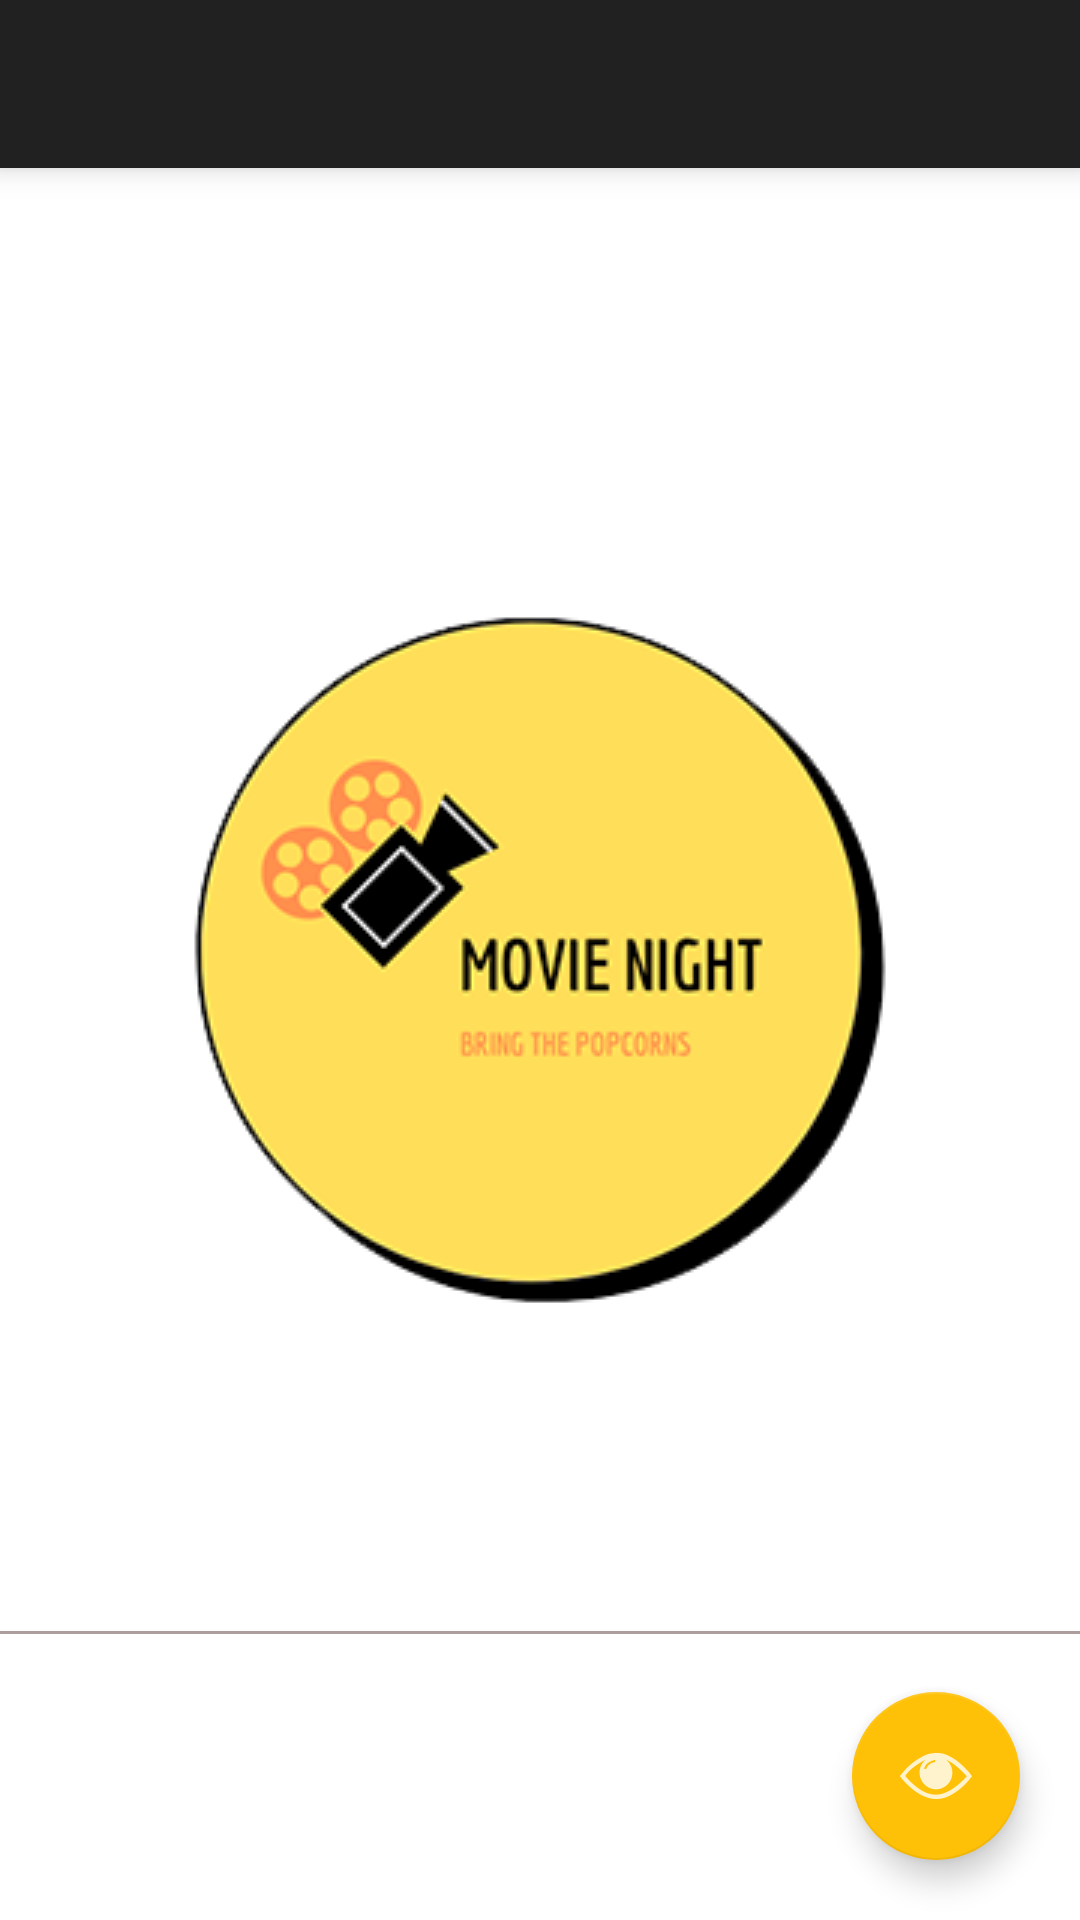

Where icons sit on this 1080 × 1920 app screen, as (x1=x1, y1=y1, x2=x2, y2=y2):
watch: (x1=852, y1=1692, x2=1020, y2=1860)
